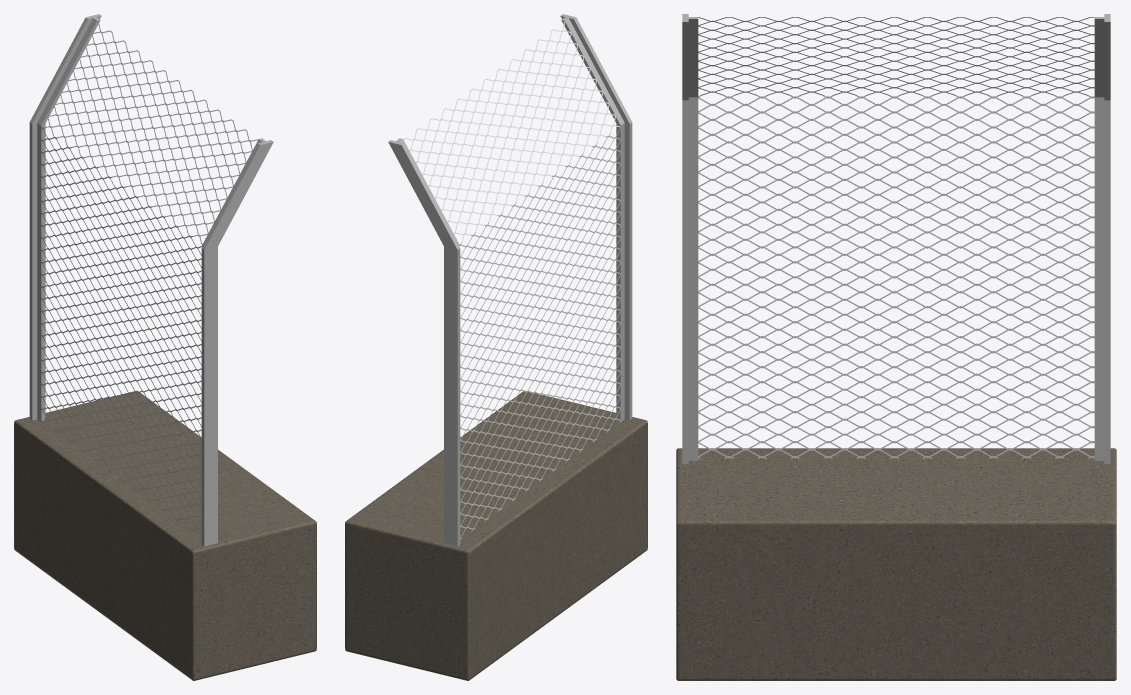
File: Fence_4.fbx
3 renders of one model, left to right at view 1: azimuth 30°, elevation 25°; view 2: azimuth 150°, elevation 25°; view 3: azimuth 270°, elevation 25°, orthographic. The views are drawn at different scales.
Visible parts, largest first — view 1: Fence_4; view 2: Fence_4; view 3: Fence_4.
Part boxes in pixels (left/top/right/bottom): Fence_4: left=14, top=14, right=316, bottom=680; Fence_4: left=345, top=14, right=647, bottom=680; Fence_4: left=676, top=14, right=1116, bottom=680.
Bounding box in the file's own units: 1.2 × 4.77 × 3.
2 materials, 2 textured.
